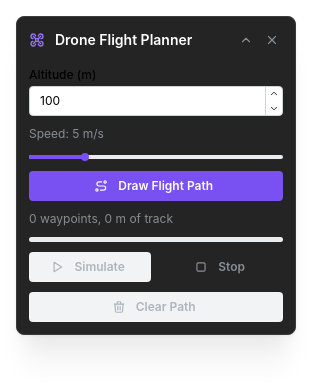
DronePanel › collects picked ground positions and draws the track
Click the button "Draw Flight Path" at (156, 186), box 29,171 -> 283,201
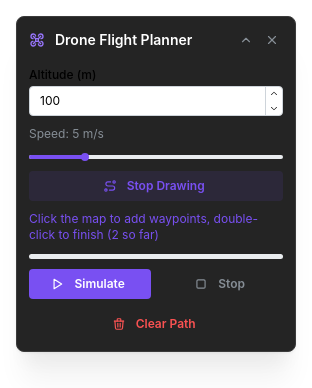
Check: the text with test id "drone-hint" shows "(2 so far)", box 29,211 -> 258,242
